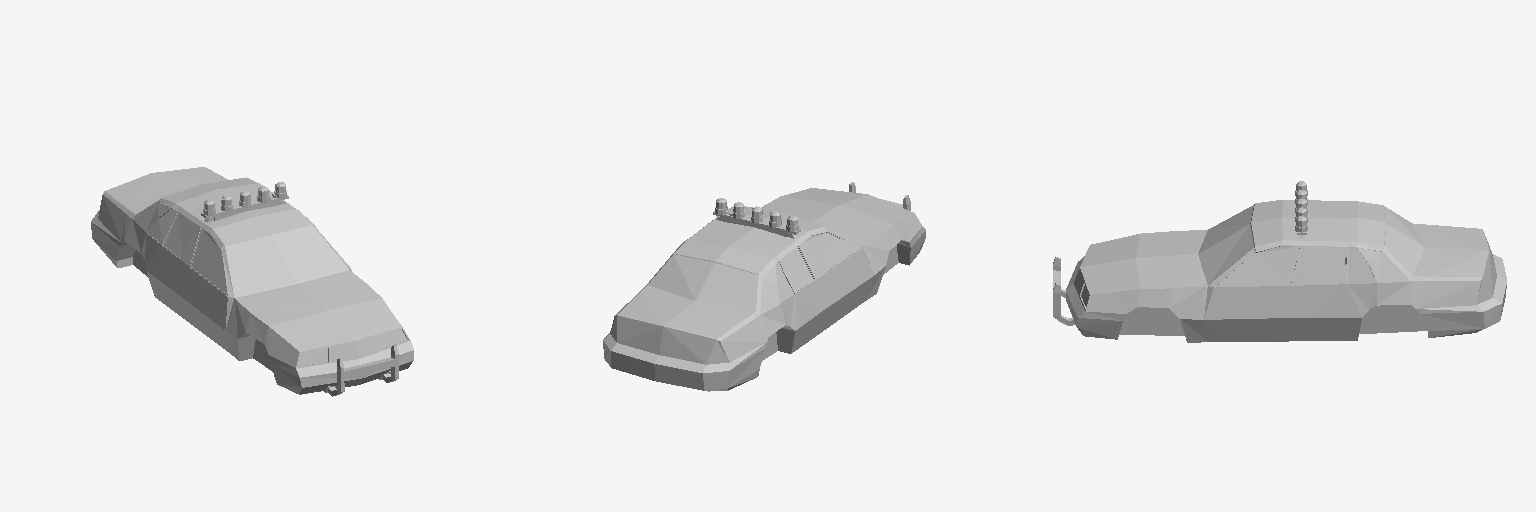
Rendered from huxton_roadster.obj.
3 views of the same model, side by side, from view 1: azimuth 30°, elevation 25°; view 2: azimuth 150°, elevation 25°; view 3: azimuth 270°, elevation 25° (orthographic).
Visible parts, largest first — view 1: Cube_Cube.001; view 2: Cube_Cube.001; view 3: Cube_Cube.001.
Boxes of the visible parts, x1,y1,x2,y2 form: Cube_Cube.001: [91, 167, 413, 396]; Cube_Cube.001: [603, 182, 925, 391]; Cube_Cube.001: [1053, 181, 1506, 342].
Bounding box in the file's own units: 1.18 × 0.9245 × 3.39.